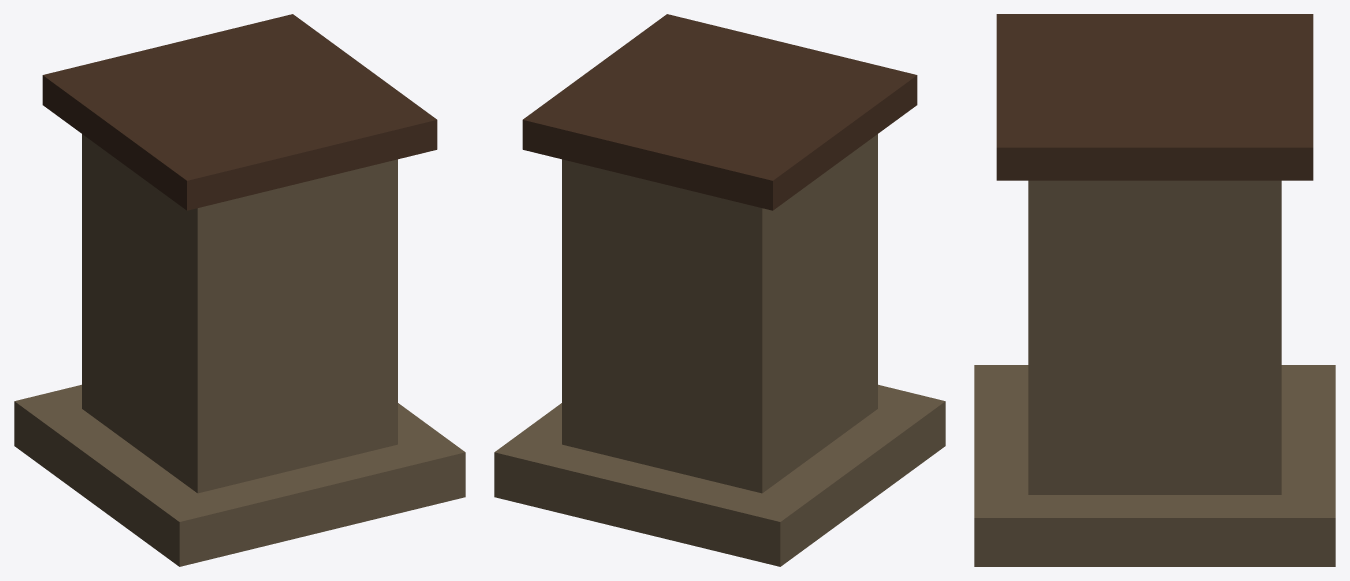
File: placement_pedestal.glb
3 views of the same model, side by side, from view 1: azimuth 30°, elevation 25°; view 2: azimuth 150°, elevation 25°; view 3: azimuth 270°, elevation 25° (orthographic). The views are drawn at different scales.
Visible parts, largest first — view 1: PLACEMENT_Pedestal; view 2: PLACEMENT_Pedestal; view 3: PLACEMENT_Pedestal.
Part boxes in pixels (x1,y1,x2,y2): PLACEMENT_Pedestal: (14, 14, 465, 566); PLACEMENT_Pedestal: (494, 14, 945, 566); PLACEMENT_Pedestal: (974, 14, 1335, 566).
Bounding box in the file's own units: 0.8 × 1 × 0.8.
